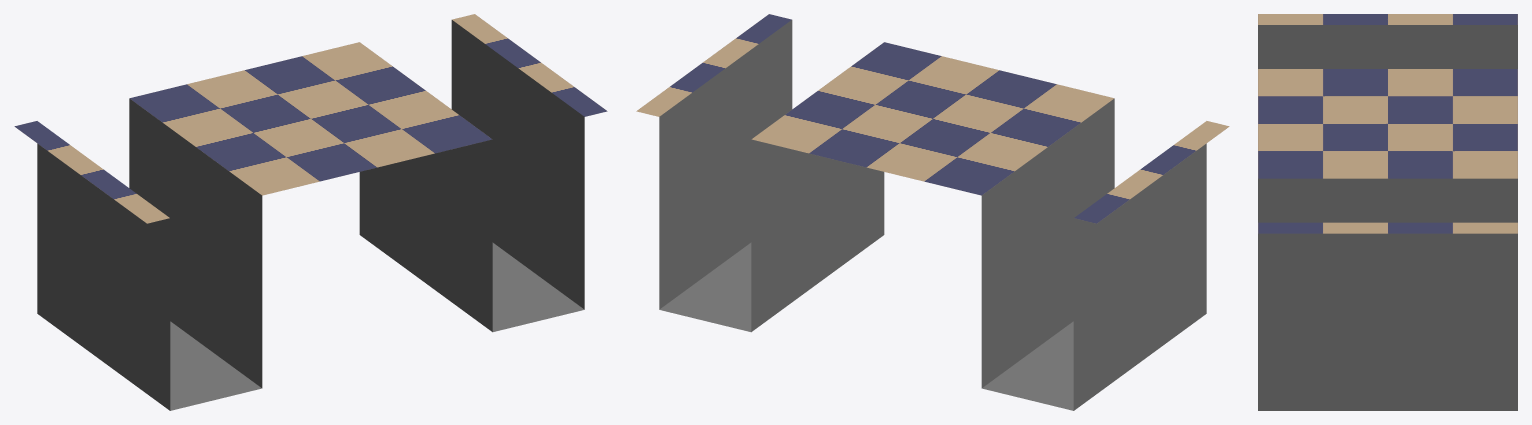
Rendered from Block1.fbx.
3 renders of one model, left to right at view 1: azimuth 30°, elevation 25°; view 2: azimuth 150°, elevation 25°; view 3: azimuth 270°, elevation 25°, orthographic. The views are drawn at different scales.
Parts seen in each view (by area): view 1: Block1; view 2: Block1; view 3: Block1.
Boxes of the visible parts, box(x1,y1,x2,y2) form: Block1: box(14, 14, 607, 410); Block1: box(636, 14, 1229, 410); Block1: box(1258, 14, 1517, 410).
Bounding box in the file's own units: 1000 × 400 × 500.
